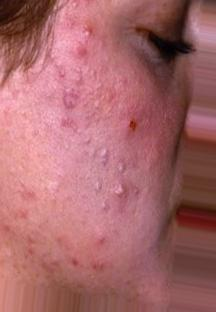Acne: (46, 66, 92, 125), (58, 11, 110, 54), (81, 136, 131, 179), (63, 245, 108, 276), (104, 175, 134, 210), (118, 115, 144, 145)
